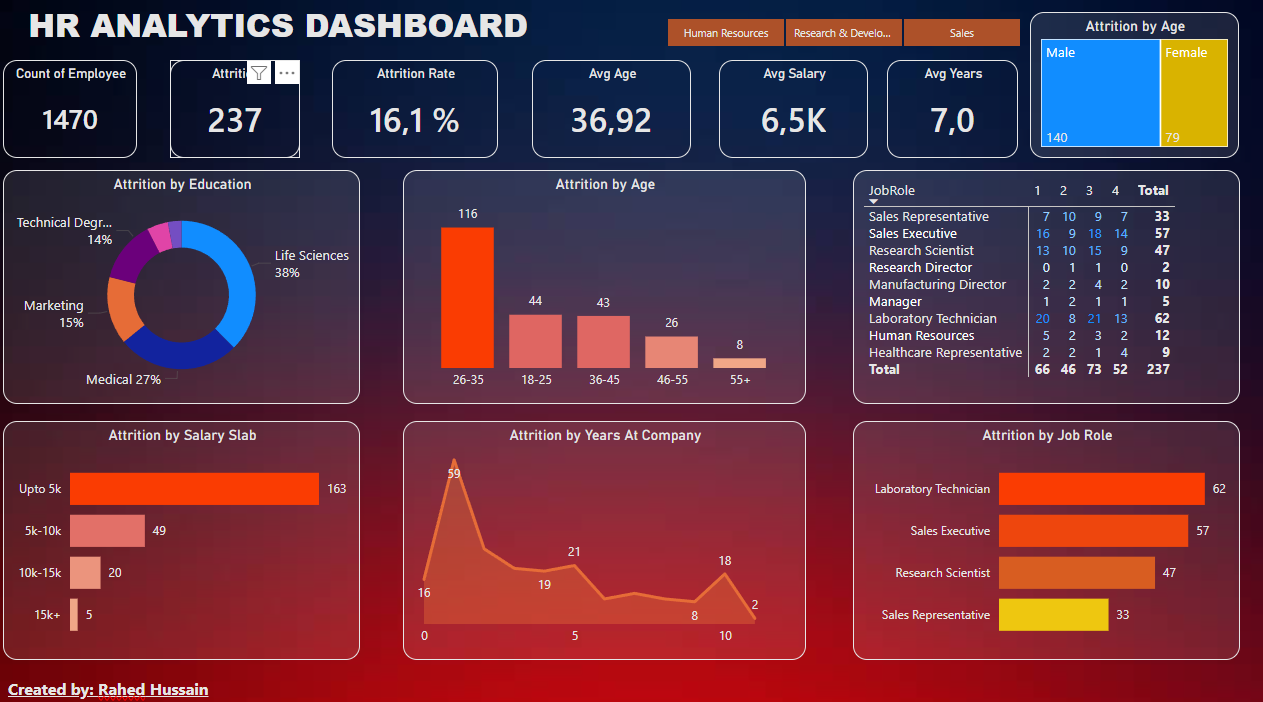

The dashboard page shown, as its layout file describes it:
{"tool":"powerbi","page":{"name":"Page 1","canvas":[1280,720],"ordinal":0},"visuals":[{"type":"cardVisual","title":"Count of Employee","fields":{"Data":["CountNonNull(HR_Analytics.EmpID)"]},"box":[6.7,62.5,134.6,98.1],"z":0},{"type":"cardVisual","title":"Attrition","fields":{"Data":["Sum(HR_Analytics.AttritionCount)"]},"box":[174,62.5,129.8,98.1],"z":1000},{"type":"cardVisual","title":"Attrition Rate","fields":{"Data":["HR_Analytics.AttrationRate"]},"box":[335.6,62.5,166.3,98.1],"z":2000},{"type":"cardVisual","title":"Avg Age","fields":{"Data":["Avg(HR_Analytics.Age)"]},"box":[535.6,62.5,159.6,98.1],"z":3000},{"type":"cardVisual","title":"Avg Salary","fields":{"Data":["Avg(HR_Analytics.MonthlyIncome)"]},"box":[723.1,62.5,149,98.1],"z":4000},{"type":"cardVisual","title":"Avg Years","fields":{"Data":["Avg(HR_Analytics.YearsAtCompany)"]},"box":[891.3,62.5,130.8,98.1],"z":5000},{"type":"donutChart","title":"Attrition by Education","fields":{"Category":["HR_Analytics.EducationField"],"Y":["Sum(HR_Analytics.AttritionCount)"]},"box":[6.8,173.1,357,233.4],"z":6000},{"type":"columnChart","title":"Attrition by Age","fields":{"Category":["HR_Analytics.AgeGroup"],"Y":["Sum(HR_Analytics.AttritionCount)"]},"box":[406.6,173.1,403.6,233.4],"z":7000},{"type":"pivotTable","fields":{"Rows":["HR_Analytics.JobRole"],"Columns":["HR_Analytics.JobSatisfaction"],"Values":["Sum(HR_Analytics.AttritionCount)"]},"box":[856.9,173.1,387.1,233.4],"z":8000},{"type":"barChart","title":"Attrition by Salary Slab","fields":{"Category":["HR_Analytics.SalarySlab"],"Y":["Sum(HR_Analytics.AttritionCount)"]},"box":[6.8,424.1,357,239.3],"z":9000},{"type":"barChart","title":"Attrition by Job Role","fields":{"Y":["Sum(HR_Analytics.AttritionCount)"],"Category":["HR_Analytics.JobRole"]},"box":[856.9,424.1,387.1,239.3],"z":10000},{"type":"areaChart","title":"Attrition by Years At Company","fields":{"Category":["HR_Analytics.YearsAtCompany"],"Y":["Sum(HR_Analytics.AttritionCount)"]},"box":[406.6,424.1,403.6,239.3],"z":11000},{"type":"treemap","title":"Attrition by Age","fields":{"Group":["HR_Analytics.Gender"],"Values":["Sum(HR_Analytics.AttritionCount)"]},"box":[1033.7,15.4,209.6,145.2],"z":12000},{"type":"slicer","fields":{"Values":["HR_Analytics.Department"]},"box":[646.2,15.4,401.9,40.4],"z":13000},{"type":"textbox","box":[6.7,0,550,55.8],"z":14000},{"type":"textbox","box":[6.8,676,299.6,43.8],"z":14001}]}

Visuals, with their boxes in screenshot pixels (x1, y1, x2, y2), scaled from the page's 1280x720 canvas onto the 1263x702 screenshot:
"Count of Employee" cardVisual: 7, 61, 139, 157
"Attrition" cardVisual: 172, 61, 300, 157
"Attrition Rate" cardVisual: 331, 61, 495, 157
"Avg Age" cardVisual: 528, 61, 686, 157
"Avg Salary" cardVisual: 713, 61, 861, 157
"Avg Years" cardVisual: 879, 61, 1009, 157
"Attrition by Education" donutChart: 7, 169, 359, 396
"Attrition by Age" columnChart: 401, 169, 799, 396
pivotTable - HR_Analytics.JobRole x HR_Analytics.JobSatisfaction: 846, 169, 1227, 396
"Attrition by Salary Slab" barChart: 7, 413, 359, 647
"Attrition by Job Role" barChart: 846, 413, 1227, 647
"Attrition by Years At Company" areaChart: 401, 413, 799, 647
"Attrition by Age" treemap: 1020, 15, 1227, 157
slicer - HR_Analytics.Department: 638, 15, 1034, 54
textbox: 7, 0, 549, 54
textbox: 7, 659, 302, 701
